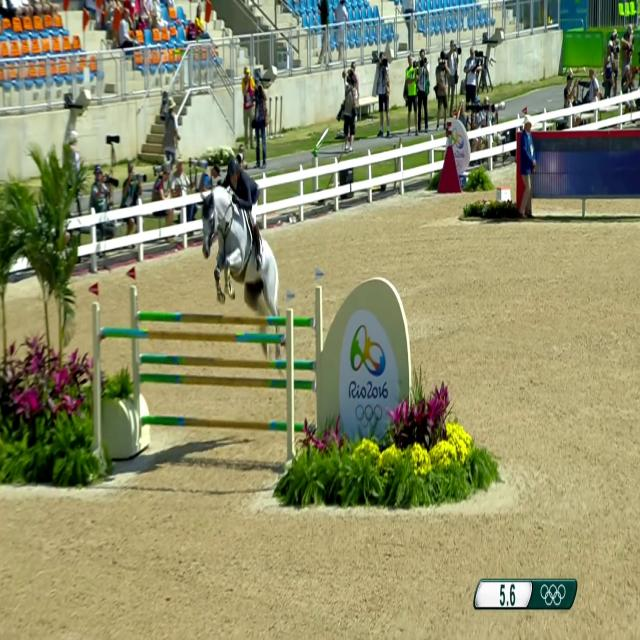Horse Jumping: (196, 169, 299, 373)
